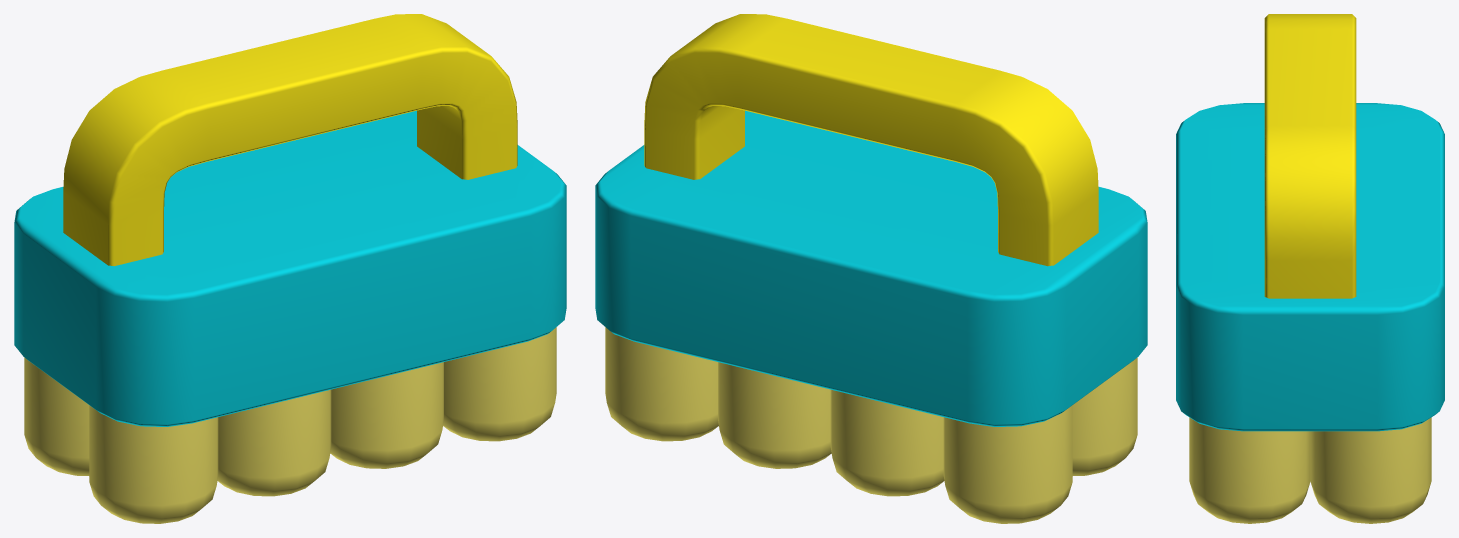
Rendered from Public_13_Cleaning_Brush_1.glb.
3 renders of one model, left to right at view 1: azimuth 30°, elevation 25°; view 2: azimuth 150°, elevation 25°; view 3: azimuth 270°, elevation 25°, orthographic. The views are drawn at different scales.
Parts seen in each view (by area): view 1: Public_13_Cleaning_Brush_1; view 2: Public_13_Cleaning_Brush_1; view 3: Public_13_Cleaning_Brush_1.
Part boxes in pixels (x1,y1,x2,y2): Public_13_Cleaning_Brush_1: (14, 14, 566, 523); Public_13_Cleaning_Brush_1: (595, 14, 1147, 523); Public_13_Cleaning_Brush_1: (1176, 14, 1444, 523).
Size of the model in its own units: 0.5721 by 0.4512 by 0.3102.
1 material, 1 textured.
